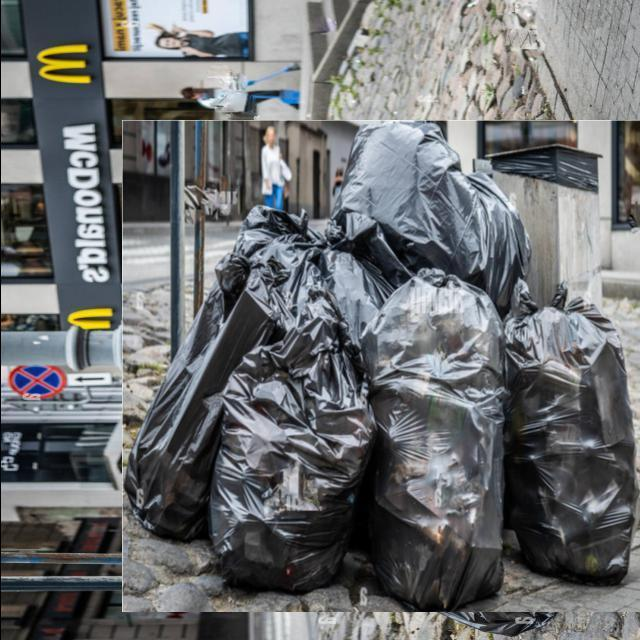Trashbag: (352, 290, 502, 623), (498, 281, 640, 594), (220, 338, 367, 600), (335, 130, 555, 286), (204, 209, 355, 332)
